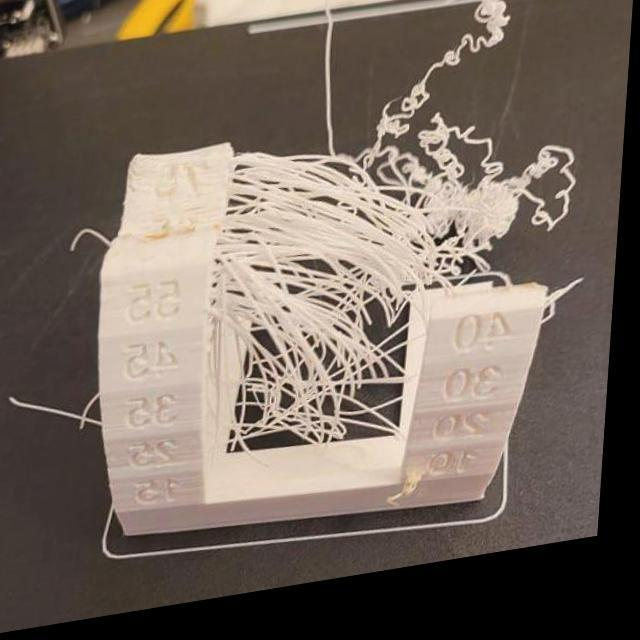spaghetti: (239, 198, 386, 461), (376, 173, 565, 284), (384, 146, 467, 206), (244, 157, 333, 212), (447, 14, 514, 78), (369, 99, 438, 161)
